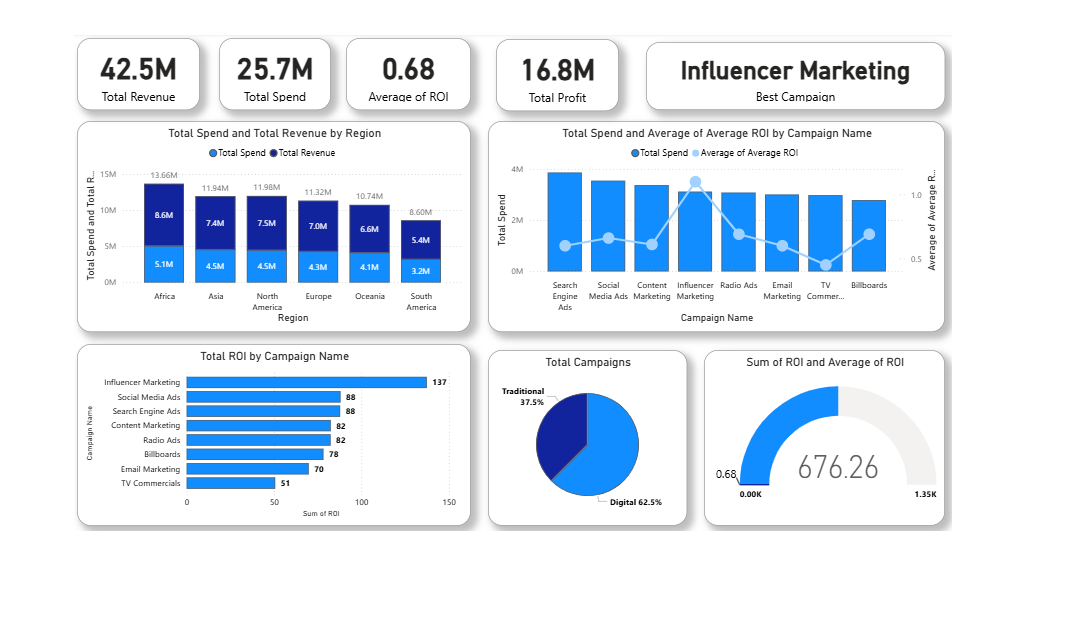

What the dashboard file says about the page in this screenshot:
{"tool":"powerbi","page":{"name":"Page 1","canvas":[1280,720],"ordinal":0},"visuals":[{"type":"columnChart","fields":{"Y":["marketing campaign performance.Total Spend","marketing campaign performance.Total Revenue"],"Category":["marketing campaign performance.Region"]},"box":[14.4,126.7,567.4,303.8],"z":0},{"type":"lineClusteredColumnComboChart","fields":{"Y":["marketing campaign performance.Total Spend"],"Category":["marketing campaign details.Campaign Name"],"Y2":["Avg(marketing campaign details.Average ROI)"]},"box":[606.2,126.7,658.1,303.8],"z":1000},{"type":"barChart","title":"Total ROI by Campaign Name","fields":{"Category":["marketing campaign details.Campaign Name"],"Y":["Sum(marketing campaign performance.ROI)"]},"box":[14.4,447.8,567.4,262.1],"z":2000},{"type":"pieChart","title":"Total Campaigns","fields":{"Category":["marketing campaign details.Campaign Type"],"Y":["CountNonNull(marketing campaign details.Total Campaigns)"]},"box":[606.2,456.5,286.6,253.4],"z":3000},{"type":"gauge","fields":{"TargetValue":["Avg(marketing campaign performance.ROI)"],"Y":["Sum(marketing campaign performance.ROI)1"]},"box":[917.3,456.5,347,253.4],"z":4000},{"type":"card","fields":{"Values":["Avg(marketing campaign performance.ROI)"]},"box":[401.8,7.2,180,103.7],"z":5000},{"type":"card","fields":{"Values":["marketing campaign performance.Total Revenue"]},"box":[14.4,7.2,177.1,103.7],"z":6000},{"type":"card","fields":{"Values":["marketing campaign performance.Total Spend"]},"box":[218.9,7.2,161.3,103.7],"z":7000},{"type":"card","fields":{"Values":["marketing campaign details.Best Campaign"]},"box":[833.8,13,430.6,97.9],"z":8000},{"type":"card","fields":{"Values":["marketing campaign details.Total Profit"]},"box":[617.8,8.6,177.1,103.7],"z":9000}]}

Visuals, with their boxes on the page's 1280x720 design canvas (x1, y1, x2, y2). These are canvas units, not pixel positions in the 1072x628 screenshot, which may show the page scaled, cropped or inside an application window:
columnChart - marketing campaign performance.Total Spend x marketing campaign performance.Total Revenue: left=14, top=127, right=582, bottom=430
lineClusteredColumnComboChart - marketing campaign performance.Total Spend x marketing campaign details.Campaign Name: left=606, top=127, right=1264, bottom=430
"Total ROI by Campaign Name" barChart: left=14, top=448, right=582, bottom=710
"Total Campaigns" pieChart: left=606, top=456, right=893, bottom=710
gauge - Avg(marketing campaign performance.ROI) x Sum(marketing campaign performance.ROI)1: left=917, top=456, right=1264, bottom=710
card - Avg(marketing campaign performance.ROI): left=402, top=7, right=582, bottom=111
card - marketing campaign performance.Total Revenue: left=14, top=7, right=192, bottom=111
card - marketing campaign performance.Total Spend: left=219, top=7, right=380, bottom=111
card - marketing campaign details.Best Campaign: left=834, top=13, right=1264, bottom=111
card - marketing campaign details.Total Profit: left=618, top=9, right=795, bottom=112
